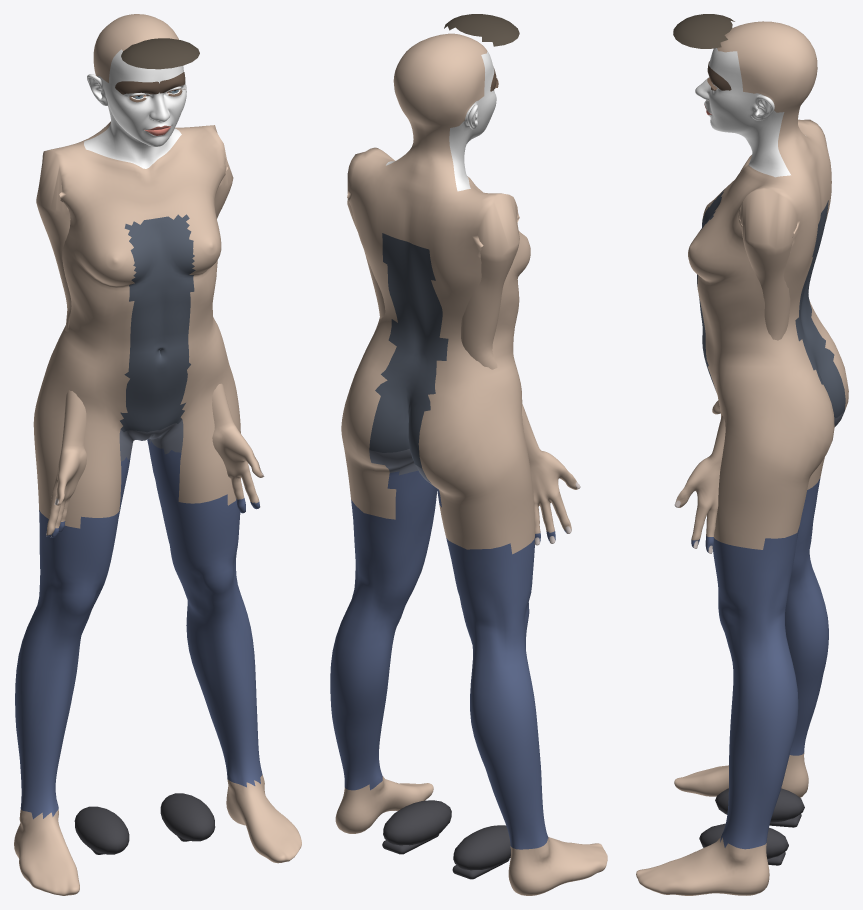
Rendered from hm_ped_noah_v16.glb.
The picture shows the model from 3 angles, left to right: view 1: azimuth 30°, elevation 25°; view 2: azimuth 150°, elevation 25°; view 3: azimuth 270°, elevation 25°; orthographic projection.
Parts seen in each view (by area): view 1: hm_ped_noah; view 2: hm_ped_noah; view 3: hm_ped_noah.
Boxes of the visible parts, <box> form: hm_ped_noah: <box>14,14,301,895</box>; hm_ped_noah: <box>330,14,607,895</box>; hm_ped_noah: <box>636,14,848,895</box>.
Size of the model in its own units: 0.5697 by 1.78 by 0.419.
